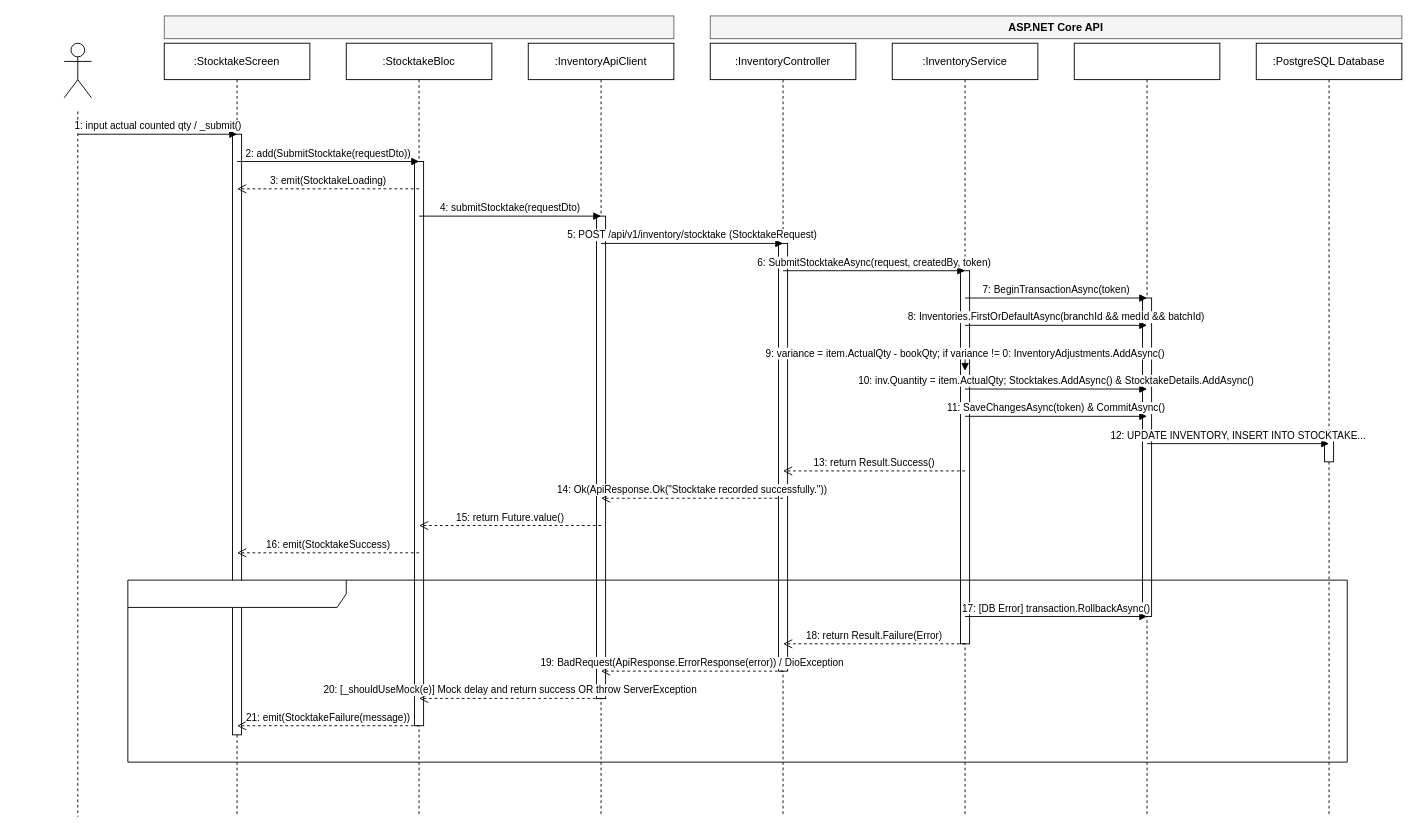
Image size: 1418x834. Some labels were removed from this diagram. Here are the shapes that lost their labels. From the top down, the box of each, then its label:
(163, 15, 674, 39): Flutter Frontend
(63, 42, 91, 98): Auditor / StorePharmacist
(1073, 42, 1220, 817): :PharmacyDbContext
(127, 579, 1347, 762): alt [DB Concurrency / Invalid Batch / Offline Fallback]
